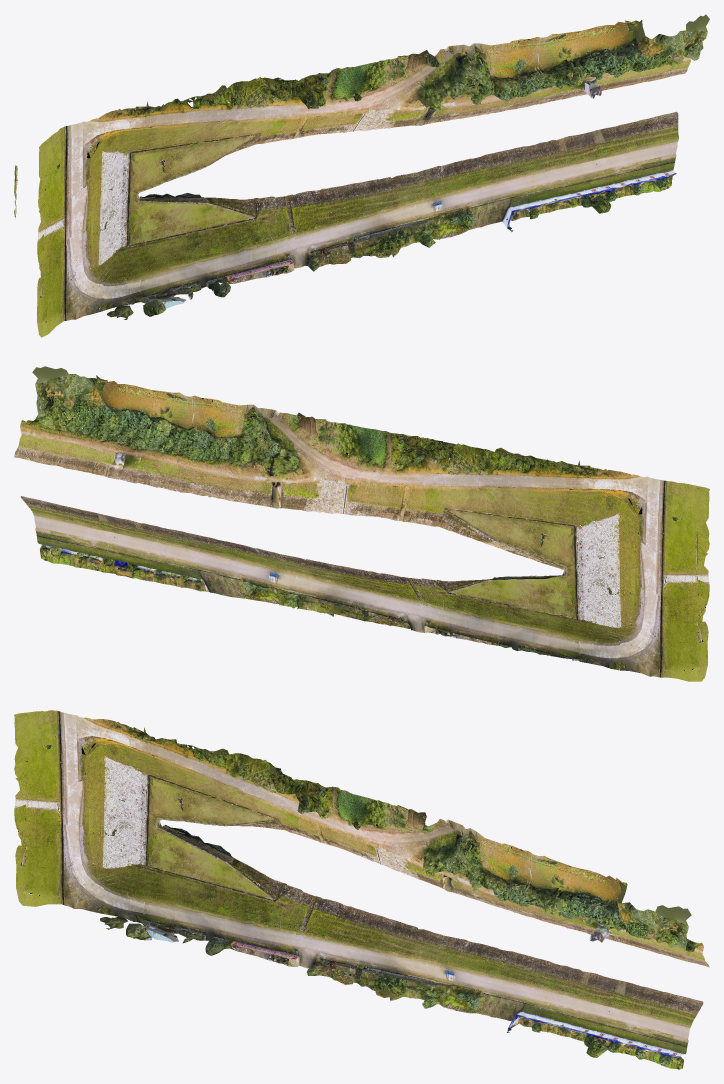
3 renders of one model, top to bottom at view 1: azimuth 30°, elevation 25°; view 2: azimuth 150°, elevation 25°; view 3: azimuth 330°, elevation 25°, orthographic.
Visible parts, largest first — view 1: mmGroup0; view 2: mmGroup0; view 3: mmGroup0.
Boxes of the visible parts, x1,y1,x2,y2 form: mmGroup0: (14, 14, 709, 337); mmGroup0: (14, 366, 709, 681); mmGroup0: (14, 710, 709, 1069).
Size of the model in its own units: 188 by 59.15 by 15.77.
